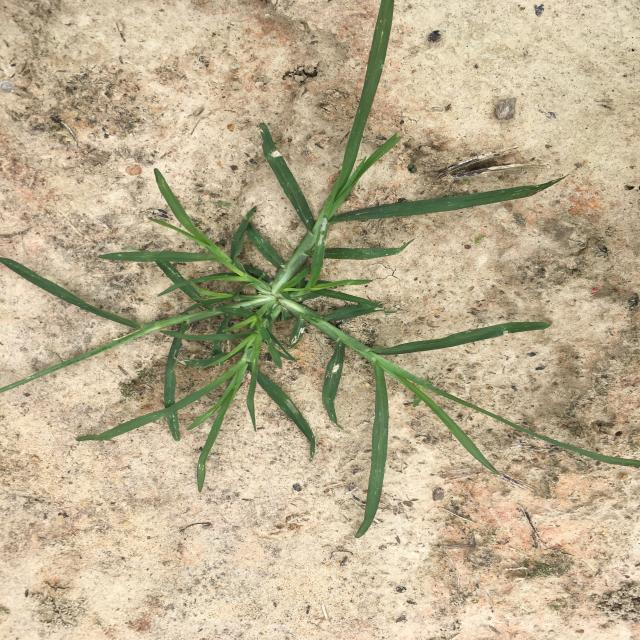Goosegrass: (0, 0, 639, 537)
